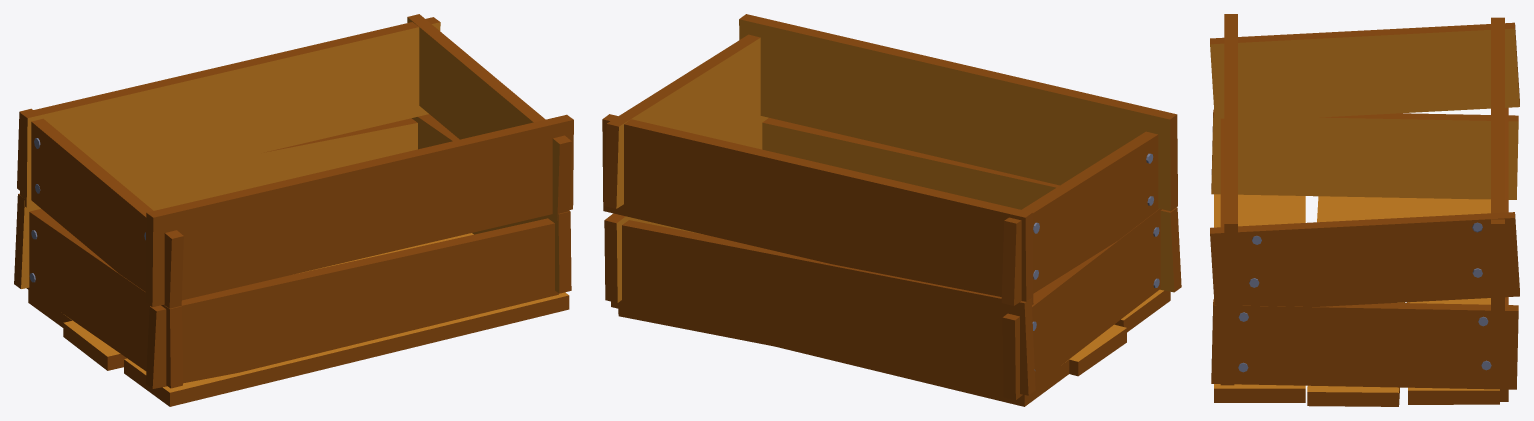
3 renders of one model, left to right at view 1: azimuth 30°, elevation 25°; view 2: azimuth 150°, elevation 25°; view 3: azimuth 270°, elevation 25°, orthographic. The views are drawn at different scales.
Parts seen in each view (by area): view 1: box; view 2: box; view 3: box.
Boxes of the visible parts, x1,y1,x2,y2 form: box: (14, 14, 573, 406); box: (602, 14, 1181, 406); box: (1210, 14, 1519, 406).
Size of the model in its own units: 3.68 by 1.59 by 2.33.
Materials: 1 (1 with a texture image).
